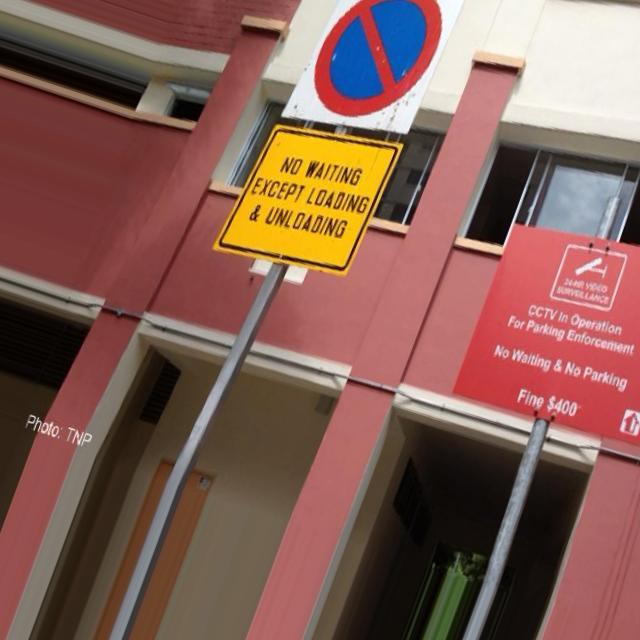forb_stopping: (317, 0, 444, 118)
